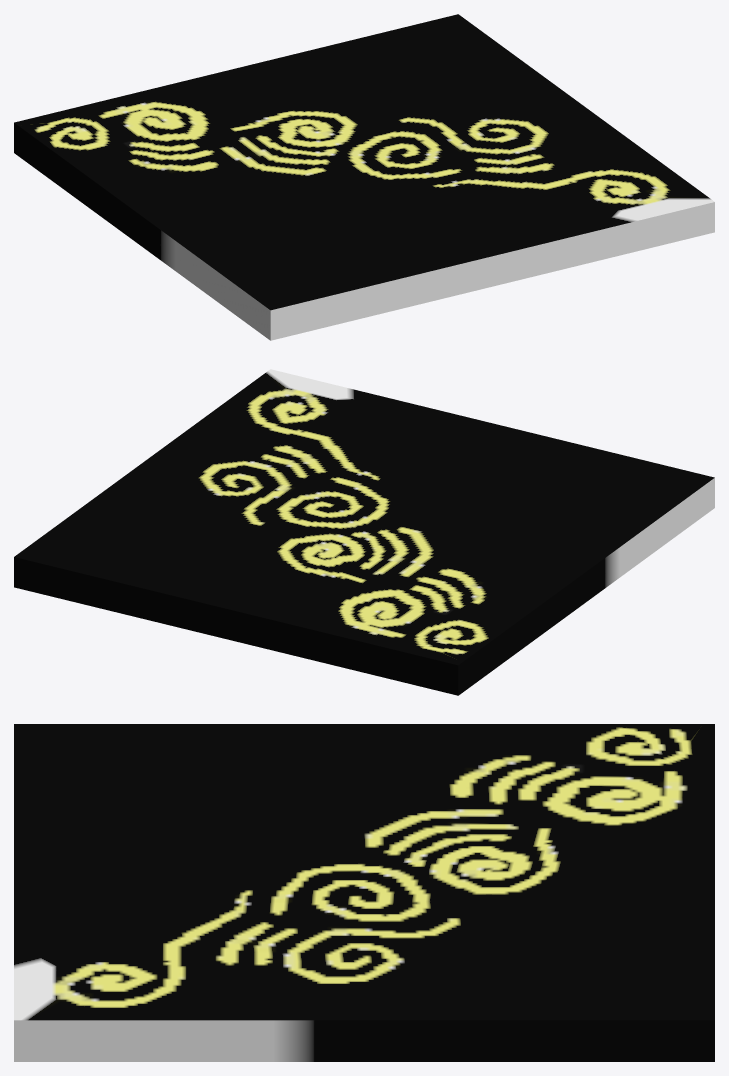
Rendered from CharSkyKid_Prop_MoonlightMural_Cloud01.glb.
3 views of the same model, one above another, from view 1: azimuth 30°, elevation 25°; view 2: azimuth 150°, elevation 25°; view 3: azimuth 270°, elevation 25° (orthographic). The views are drawn at different scales.
Visible parts, largest first — view 1: CharSkyKid_Prop_MoonlightMural_Cloud01; view 2: CharSkyKid_Prop_MoonlightMural_Cloud01; view 3: CharSkyKid_Prop_MoonlightMural_Cloud01.
Part boxes in pixels (left/top/right/bottom): CharSkyKid_Prop_MoonlightMural_Cloud01: left=14, top=14, right=714, bottom=340; CharSkyKid_Prop_MoonlightMural_Cloud01: left=14, top=369, right=714, bottom=695; CharSkyKid_Prop_MoonlightMural_Cloud01: left=14, top=724, right=714, bottom=1061.
Size of the model in its own units: 1 by 0.0654 by 1.
Materials: 1 (1 with a texture image).
